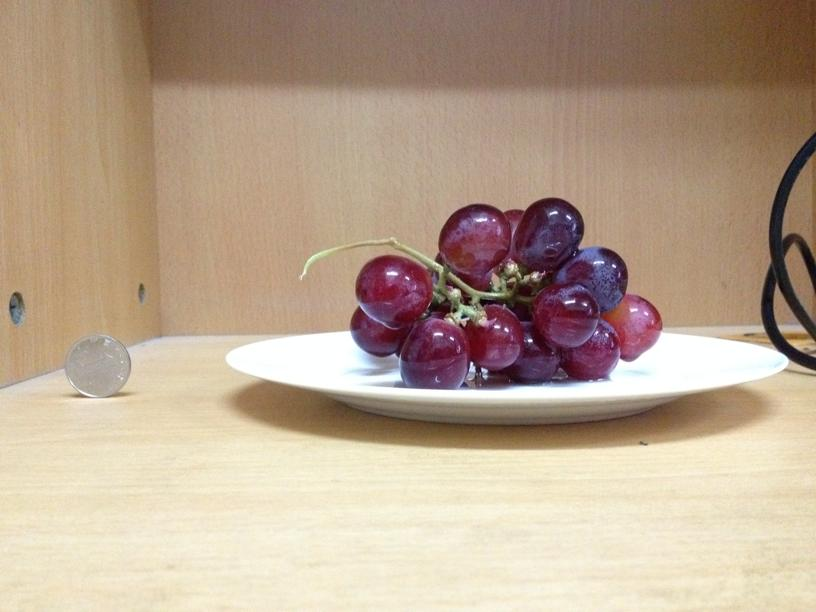coin: (66, 336, 130, 396)
grape: (356, 197, 660, 388)
